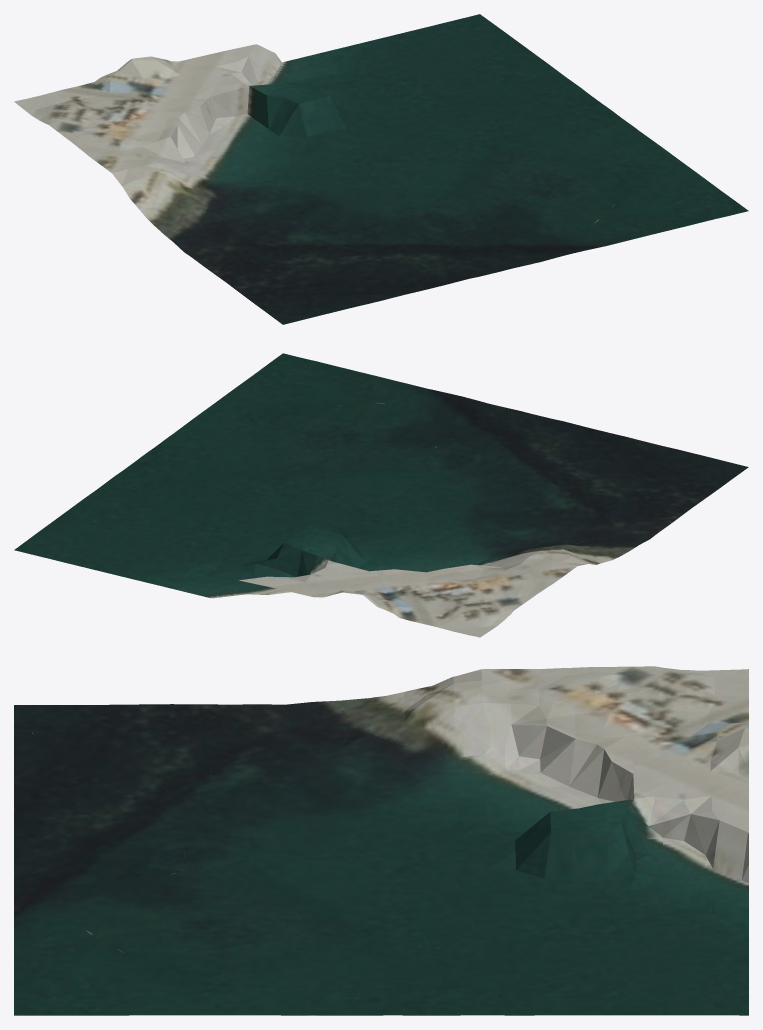
3 renders of one model, top to bottom at view 1: azimuth 30°, elevation 25°; view 2: azimuth 150°, elevation 25°; view 3: azimuth 270°, elevation 25°, orthographic. The views are drawn at different scales.
Size of the model in its own units: 104 by 9.08 by 104.
Materials: 3 (3 with a texture image).
